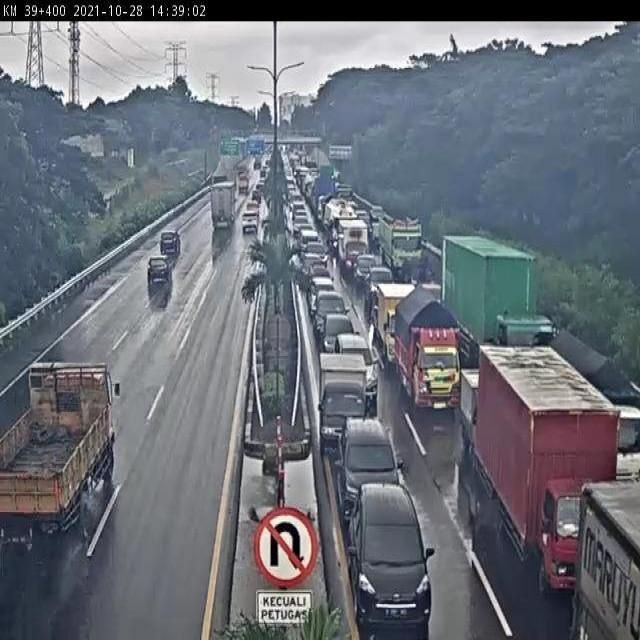big truck: (478, 351, 625, 568), (443, 238, 545, 366), (579, 473, 640, 640), (380, 281, 427, 356)
car: (348, 492, 448, 640), (337, 421, 409, 492), (338, 333, 377, 403), (142, 253, 183, 291), (322, 314, 358, 354), (369, 266, 395, 306), (311, 280, 337, 320), (317, 293, 348, 323), (160, 227, 182, 256), (242, 212, 259, 240), (356, 255, 375, 280)
small truck: (0, 365, 118, 547), (403, 294, 464, 434), (318, 354, 361, 434), (457, 372, 496, 448), (210, 184, 237, 231)
